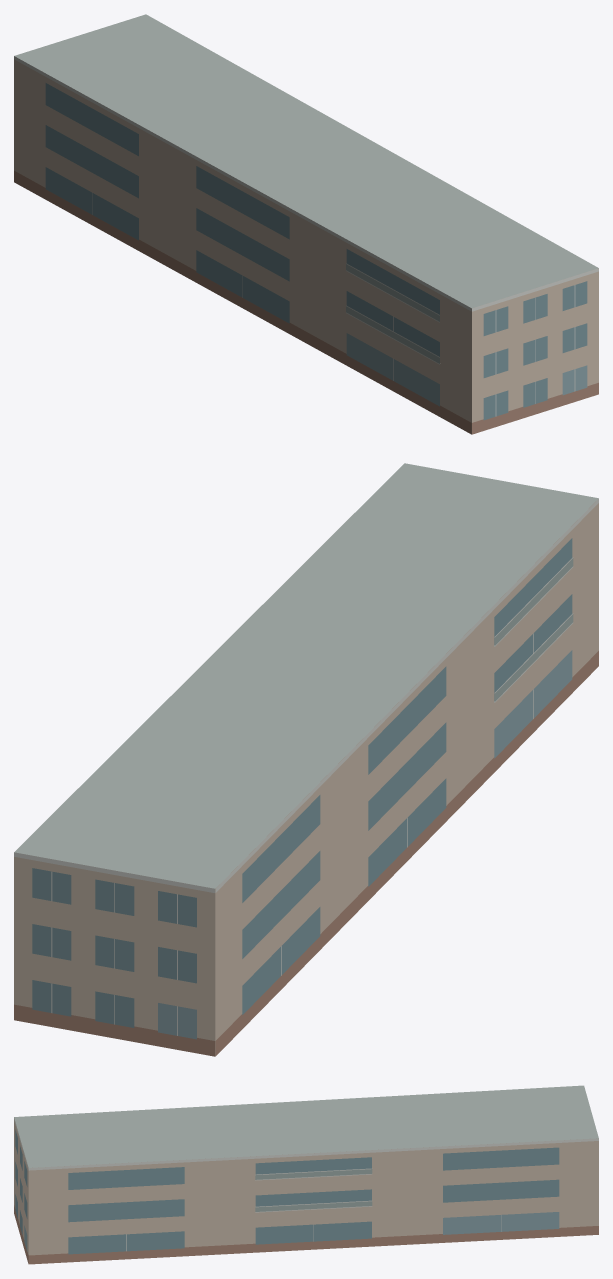
The model's file is survey-upis-32769879.glb.
3 renders of one model, top to bottom at view 1: azimuth 30°, elevation 25°; view 2: azimuth 150°, elevation 25°; view 3: azimuth 270°, elevation 25°, orthographic. The views are drawn at different scales.
Visible parts, largest first — view 1: survey-upis-32769879.tmp; view 2: survey-upis-32769879.tmp; view 3: survey-upis-32769879.tmp.
Part boxes in pixels (x1,y1,x2,y2): survey-upis-32769879.tmp: (14,14,598,434); survey-upis-32769879.tmp: (14,463,598,1056); survey-upis-32769879.tmp: (14,1085,598,1264).
Size of the model in its own units: 16.79 by 9.15 by 50.29.
